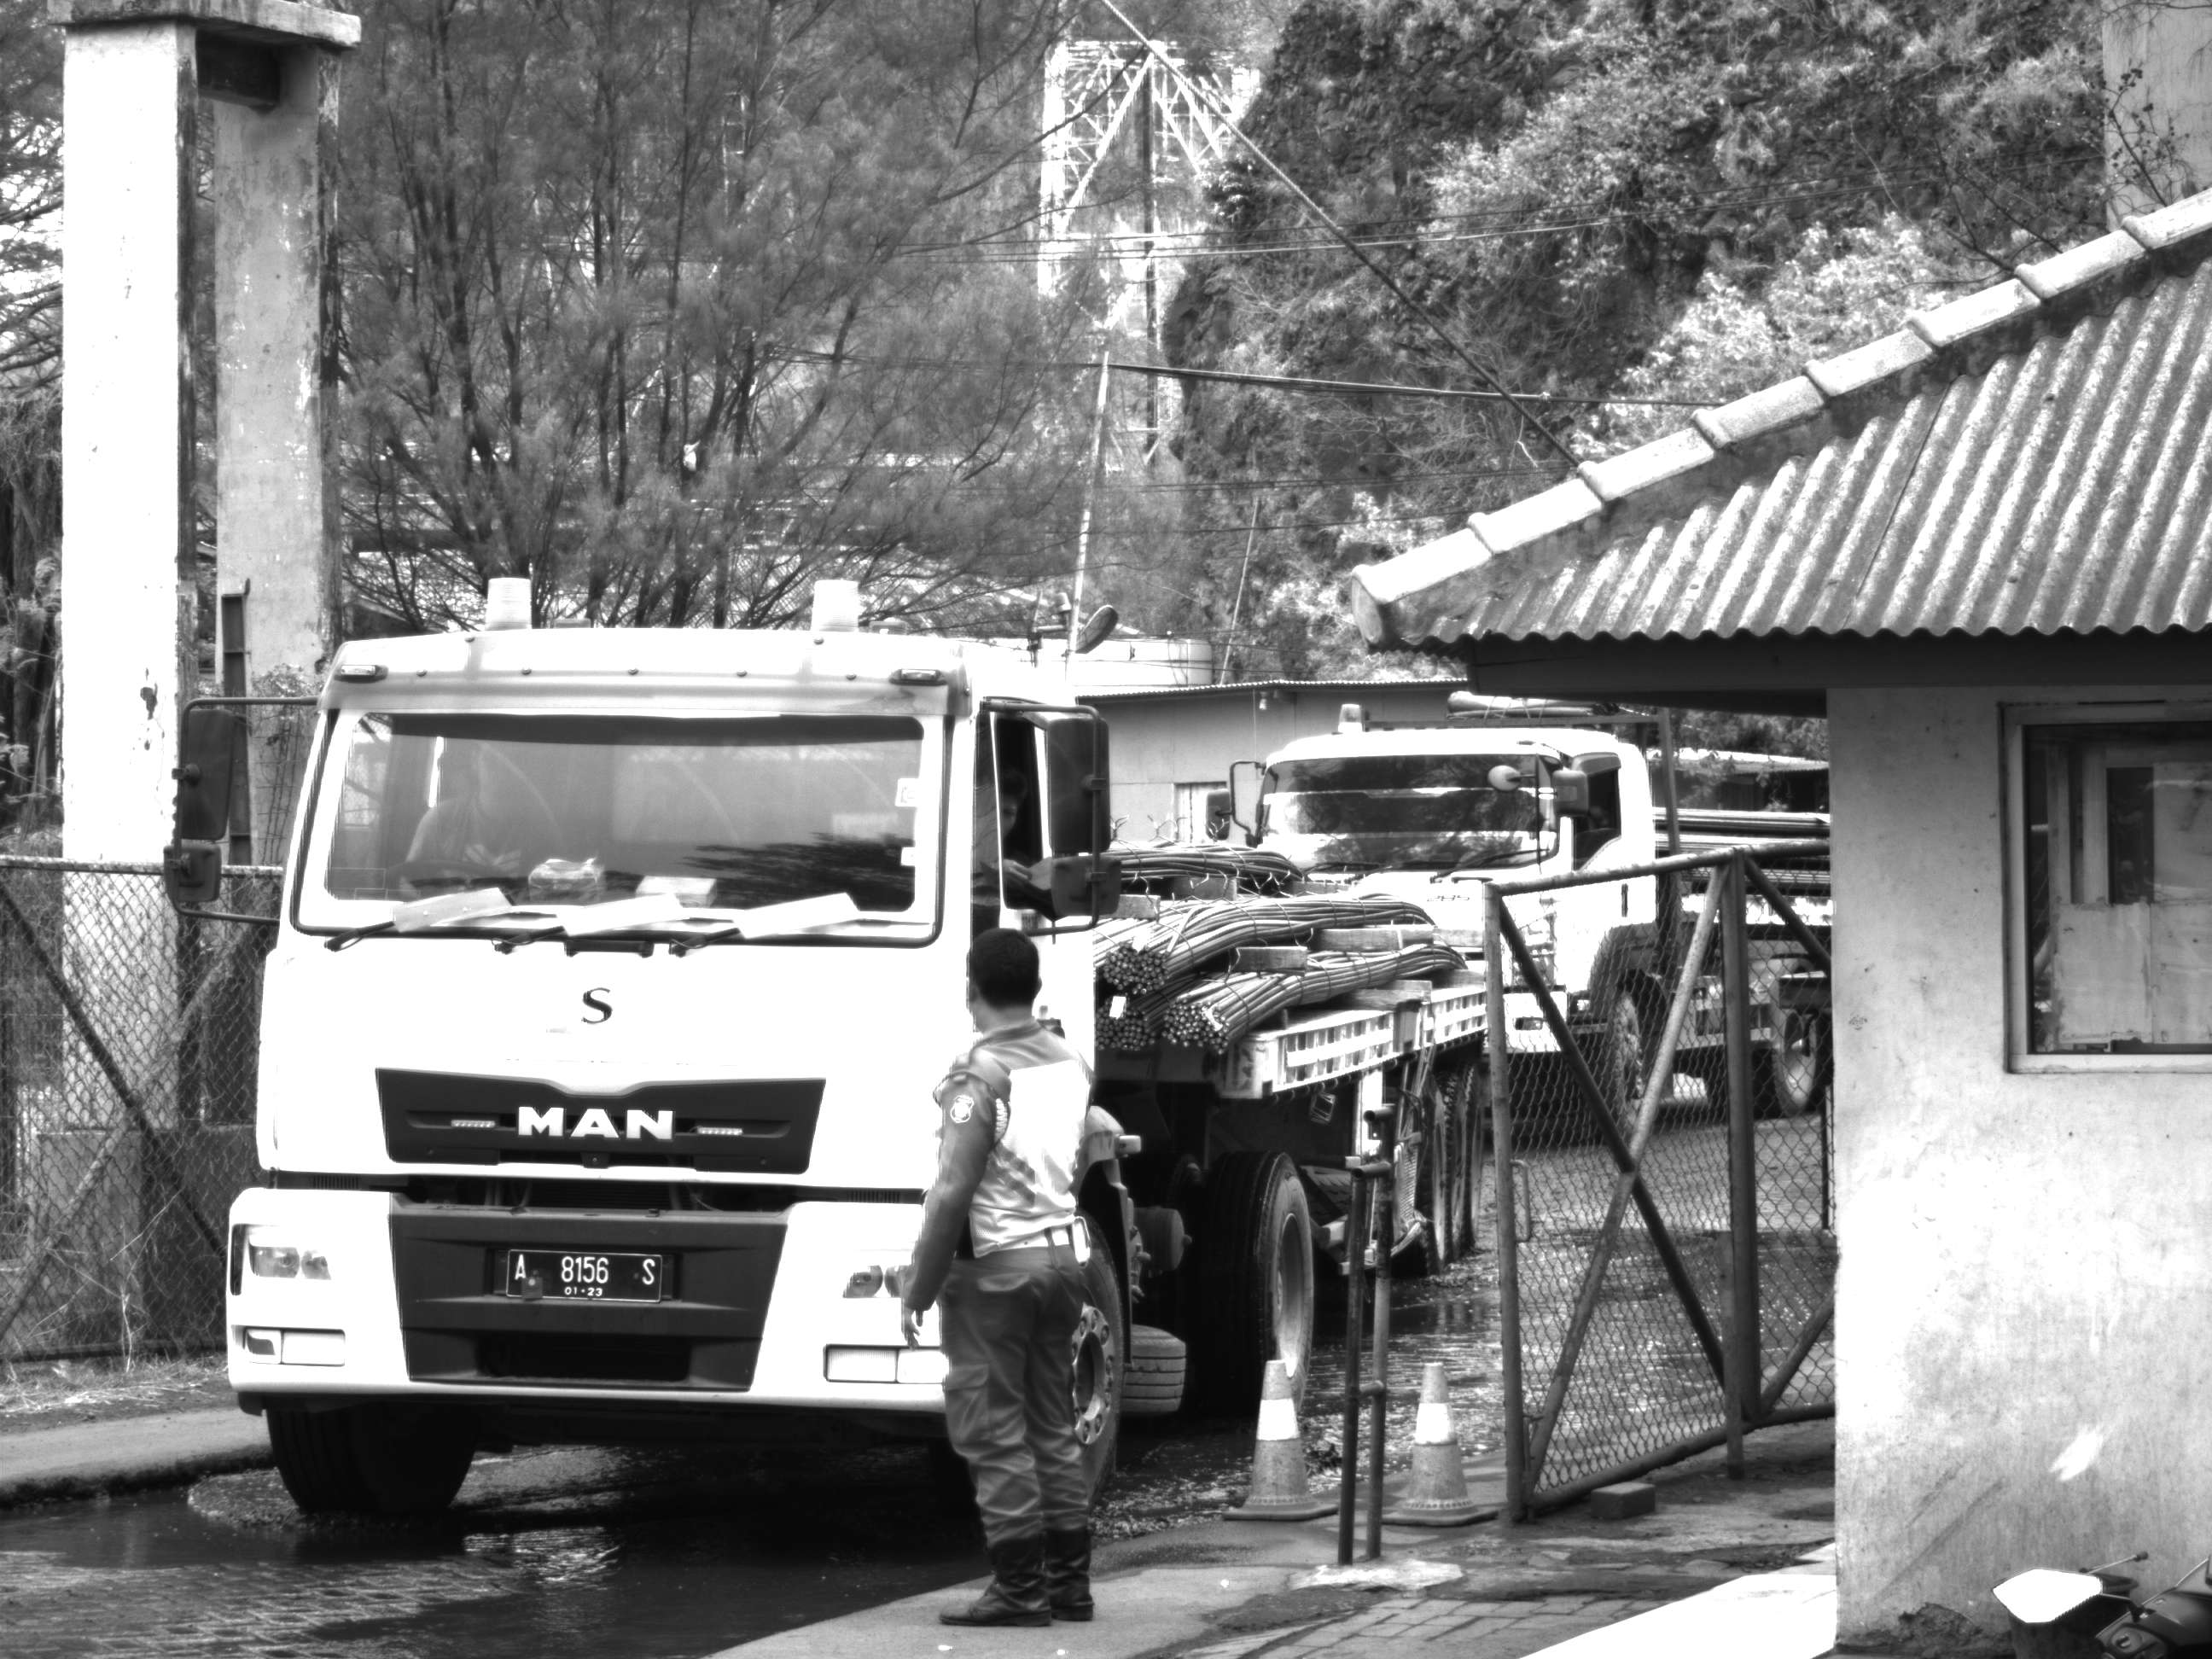day_truck_front: (221, 569, 1161, 1530)
plate: (505, 1243, 666, 1309)
